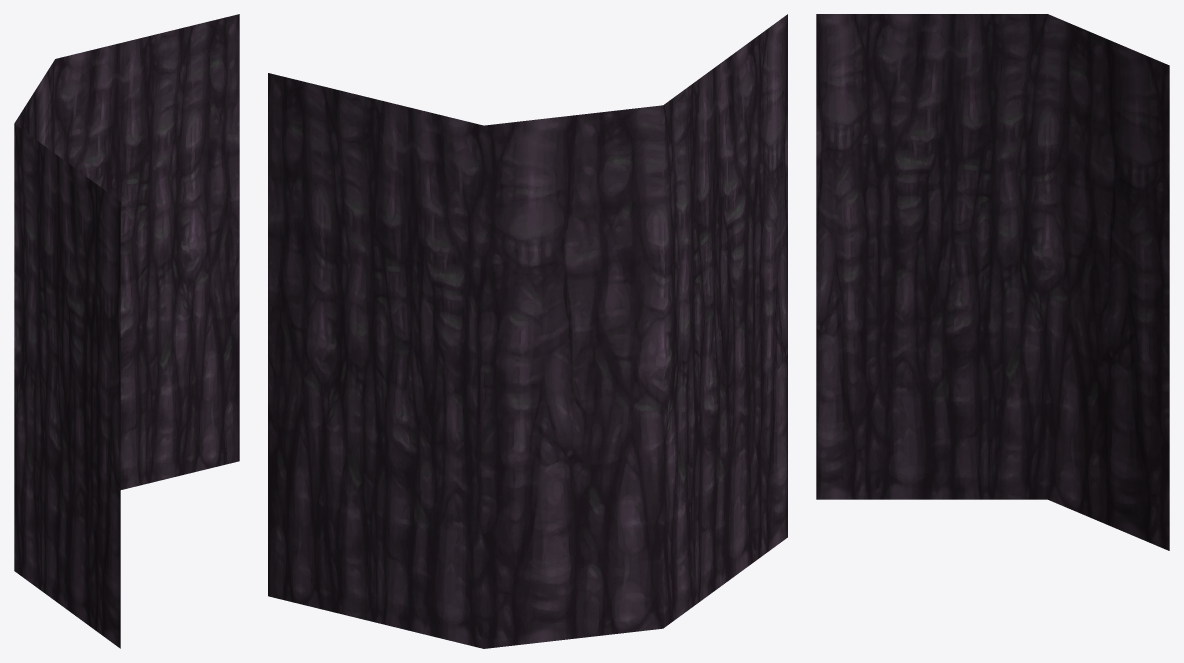
File: cave_wall_concave_01.fbx
The picture shows the model from 3 angles, left to right: view 1: azimuth 30°, elevation 25°; view 2: azimuth 150°, elevation 25°; view 3: azimuth 270°, elevation 25°; orthographic projection. The views are drawn at different scales.
Visible parts, largest first — view 1: cave_tileset/wall01_mat; view 2: cave_tileset/wall01_mat; view 3: cave_tileset/wall01_mat.
Boxes of the visible parts, bbox=[...] form: cave_tileset/wall01_mat: bbox=[14, 14, 239, 648]; cave_tileset/wall01_mat: bbox=[268, 14, 787, 648]; cave_tileset/wall01_mat: bbox=[816, 14, 1169, 550].
Bounding box in the file's own units: 3.62 × 5.5 × 3.63.
